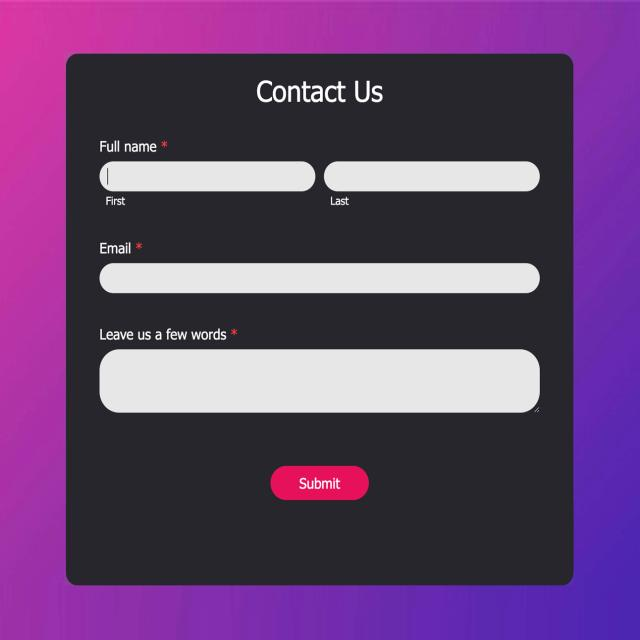buttons: (271, 465, 370, 501)
input-fields: (98, 321, 542, 425), (98, 243, 542, 301), (90, 137, 316, 206), (326, 158, 548, 206)
text: (258, 78, 388, 106)
